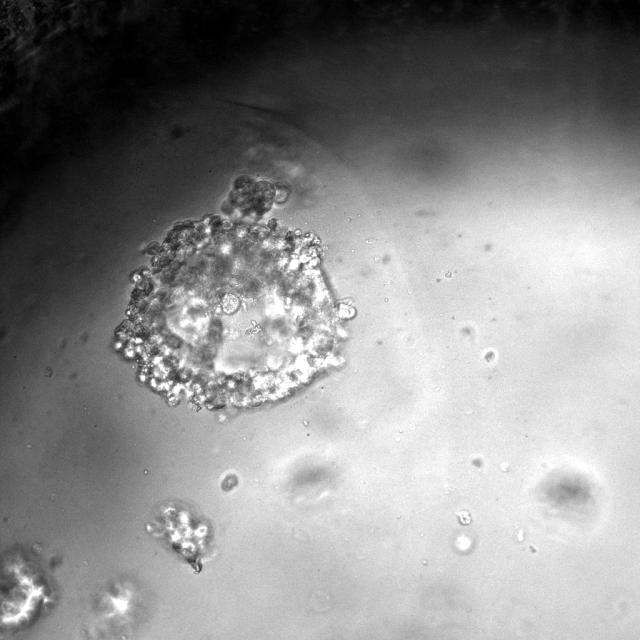organoid: (115, 175, 356, 410), (0, 546, 58, 639), (147, 502, 213, 572)
